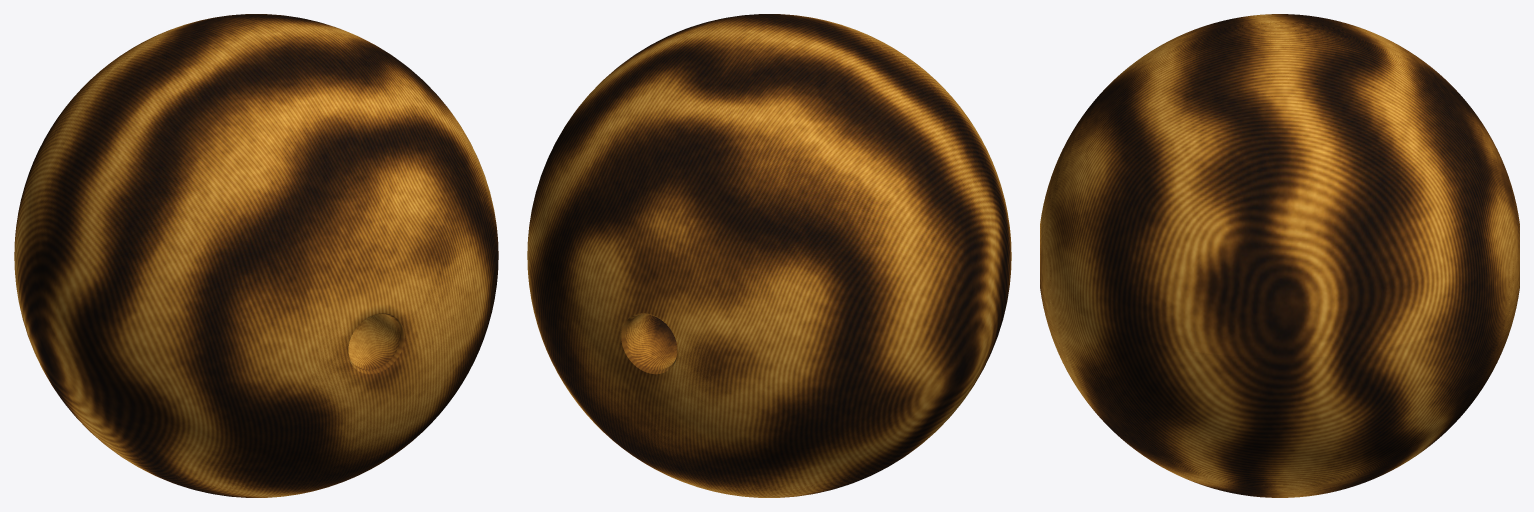
The model's file is tigers-eye.glb.
The picture shows the model from 3 angles, left to right: view 1: azimuth 30°, elevation 25°; view 2: azimuth 150°, elevation 25°; view 3: azimuth 270°, elevation 25°; orthographic projection.
Visible parts, largest first — view 1: tigers-eye.001; view 2: tigers-eye.001; view 3: tigers-eye.001.
Part boxes in pixels (x1,y1,x2,y2): tigers-eye.001: (14,14,498,497); tigers-eye.001: (527,14,1011,497); tigers-eye.001: (1040,14,1519,497).
Bounding box in the file's own units: 0.008 × 0.008 × 0.00793.
Materials: 1 (1 with a texture image).
